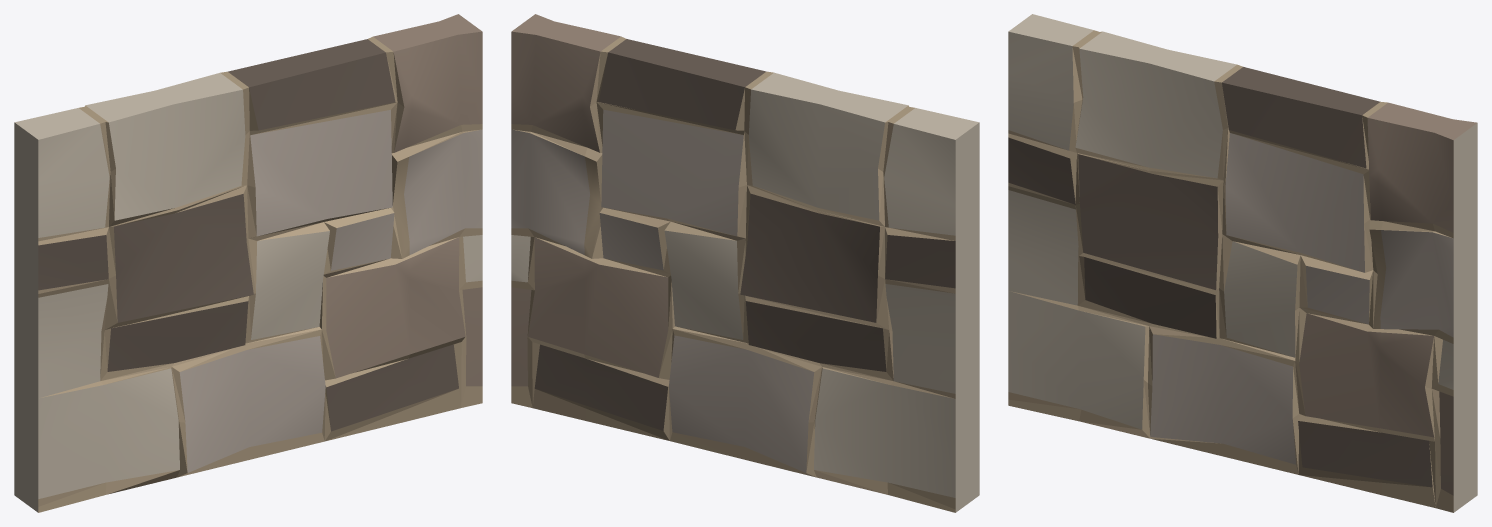
Rendered from RG-Dungeon_Wall-03.fbx.
3 views of the same model, side by side, from view 1: azimuth 30°, elevation 25°; view 2: azimuth 150°, elevation 25°; view 3: azimuth 330°, elevation 25° (orthographic).
Visible parts, largest first — view 1: RG-Dungeon_Wall-03; view 2: RG-Dungeon_Wall-03; view 3: RG-Dungeon_Wall-03.
Part boxes in pixels (<box>): RG-Dungeon_Wall-03: <box>14,14,482,512</box>; RG-Dungeon_Wall-03: <box>511,14,979,512</box>; RG-Dungeon_Wall-03: <box>1008,14,1477,512</box>.
Size of the model in its own units: 20 by 16.05 by 2.59.
